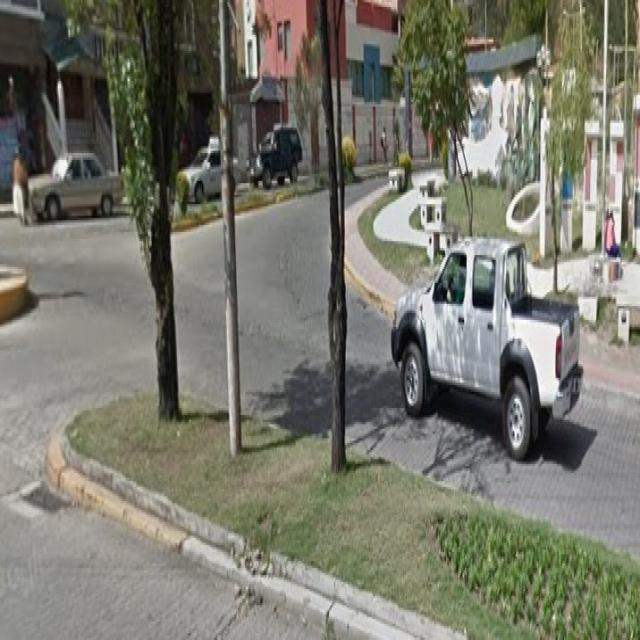Car: (394, 232, 581, 449), (29, 147, 120, 215), (177, 122, 227, 222), (258, 120, 315, 200)
